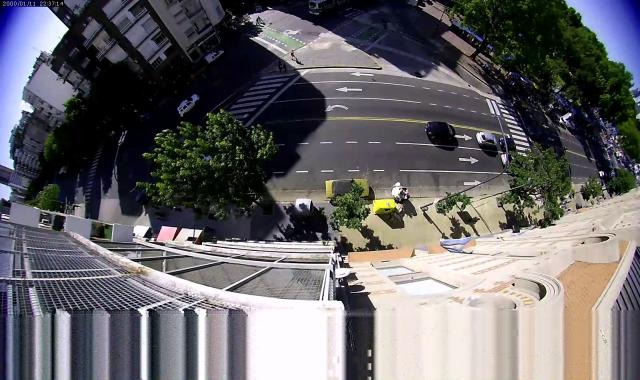bus: (309, 0, 349, 15)
car: (326, 179, 369, 198), (425, 122, 456, 140), (177, 94, 200, 117), (476, 132, 497, 147), (204, 50, 224, 64), (498, 138, 516, 151), (527, 127, 541, 138), (550, 114, 560, 123), (598, 171, 608, 178), (568, 121, 576, 129), (560, 118, 566, 125)
